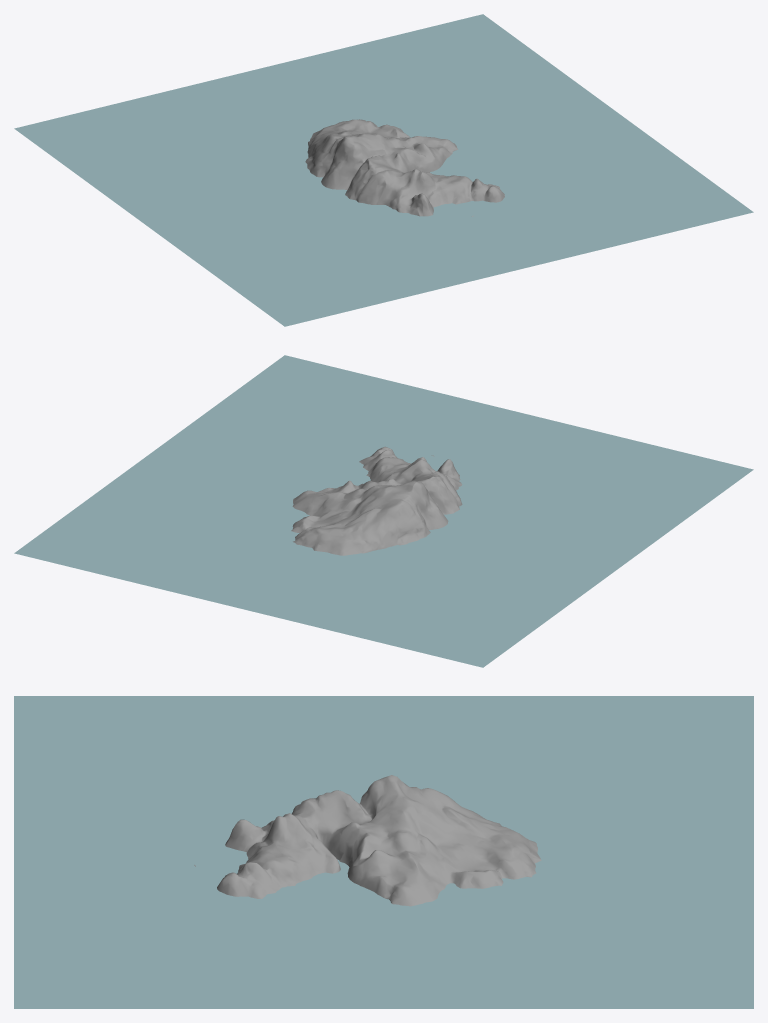
File: scene_template.fbx
The picture shows the model from 3 angles, top to bottom: view 1: azimuth 30°, elevation 25°; view 2: azimuth 150°, elevation 25°; view 3: azimuth 270°, elevation 25°; orthographic projection. The views are drawn at different scales.
Parts seen in each view (by area): view 1: water, island; view 2: water, island; view 3: water, island.
Part boxes in pixels (x1=…): water: x1=14, y1=14, x2=753, y2=326; island: x1=305, y1=119, x2=504, y2=216; water: x1=14, y1=355, x2=753, y2=667; island: x1=291, y1=446, x2=462, y2=555; water: x1=14, y1=696, x2=753, y2=1008; island: x1=194, y1=775, x2=541, y2=906.
Bounding box in the file's own units: 100 × 13.03 × 100.
